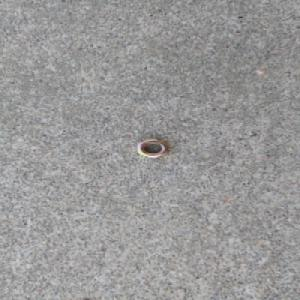Nut: (135, 138, 169, 158)
